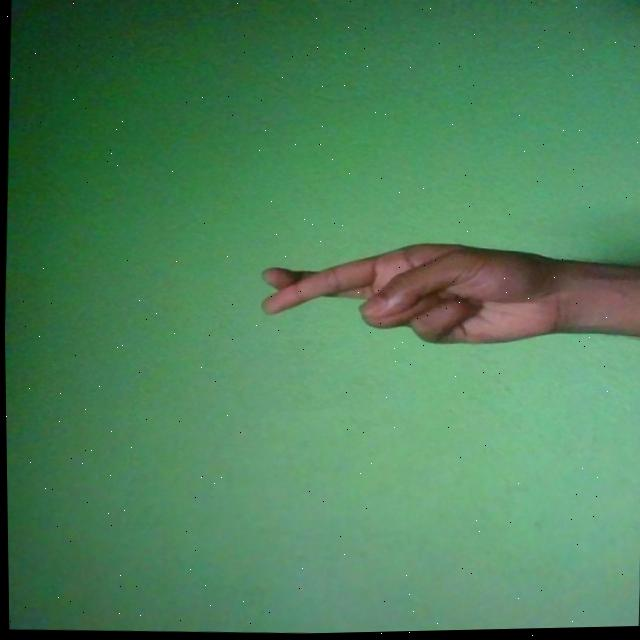Good Luck: (259, 236, 571, 353)
